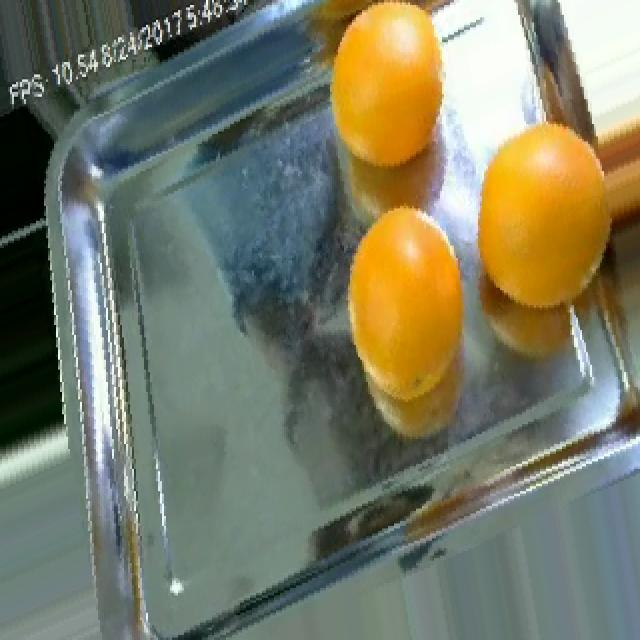Good_Orange: (476, 124, 612, 313), (348, 208, 464, 404), (330, 2, 444, 174)
